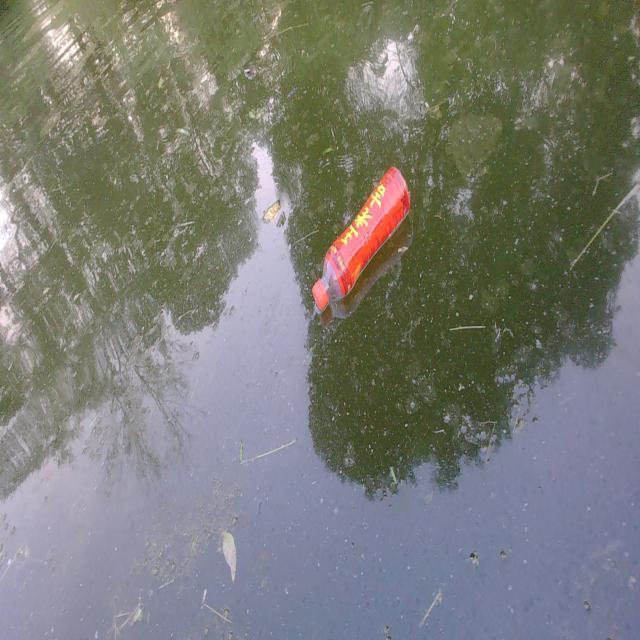garbage: (311, 164, 411, 317)
